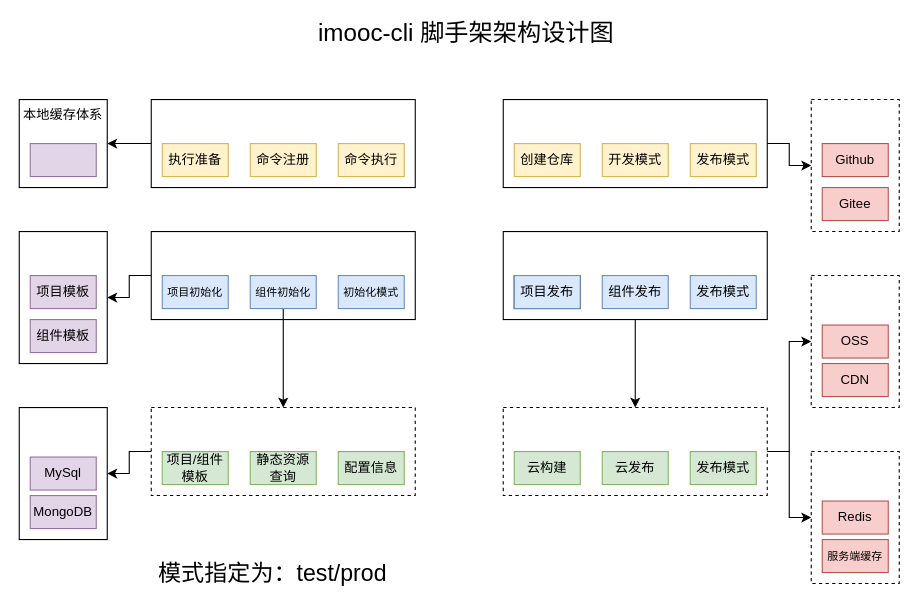
Image size: 919x605. Some labels were removed from this diagram. The box of each missing label's shape, as (x1, y1, x2, y2) in pixels:
OPEN API: (150, 406, 415, 496)
websocket服务: (502, 406, 767, 496)
代码仓库: (810, 98, 899, 232)
初始化体系: (150, 230, 415, 320)
发布体系: (502, 230, 767, 320)
数据体系: (18, 406, 107, 540)
本地缓存&环境变量: (29, 142, 96, 177)
标准git操作体系: (502, 98, 767, 188)
模板库: (18, 230, 107, 364)
脚手架核心框架: (150, 98, 415, 188)
资源体系: (810, 274, 899, 408)
远程缓存体系: (810, 450, 899, 584)
